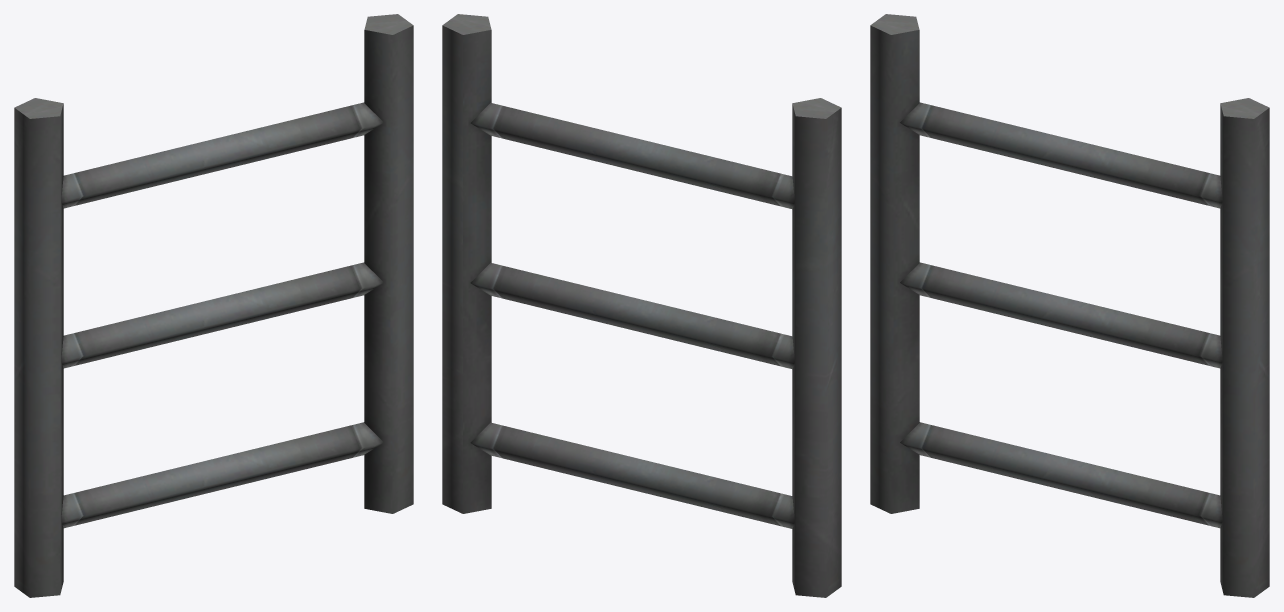
Rendered from metalLadder.obj.
The picture shows the model from 3 angles, left to right: view 1: azimuth 30°, elevation 25°; view 2: azimuth 150°, elevation 25°; view 3: azimuth 330°, elevation 25°; orthographic projection.
Visible parts, largest first — view 1: metalLadder; view 2: metalLadder; view 3: metalLadder.
Part boxes in pixels (x1,y1,x2,y2): metalLadder: (14, 14, 413, 597); metalLadder: (442, 14, 841, 597); metalLadder: (870, 14, 1269, 597).
Bounding box in the file's own units: 0.8384 × 1 × 0.0951.
Materials: 1 (1 with a texture image).
